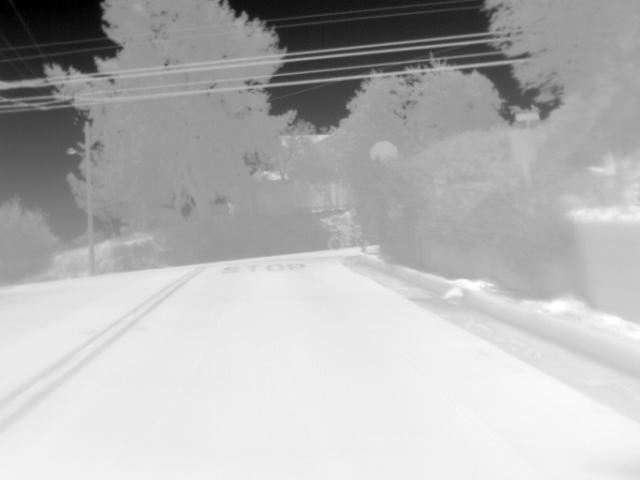person: (335, 207, 353, 244)
